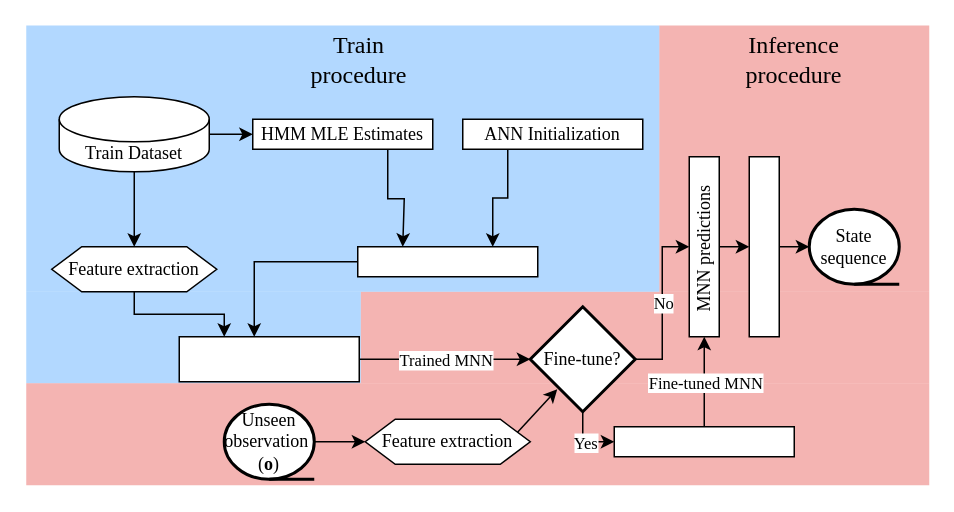
Image size: 954x512. Some labels were removed from this diagram. The shapes that lost their labels are listed below. From the top down, each one's centre as x and y in pixels, then its label:
At point 447,261: "MNN Initilization".
At point 763,246: "Decoder".
At point 268,358: "Supervised training of the MNN".
At point 703,441: "Maximize P ( o )".
